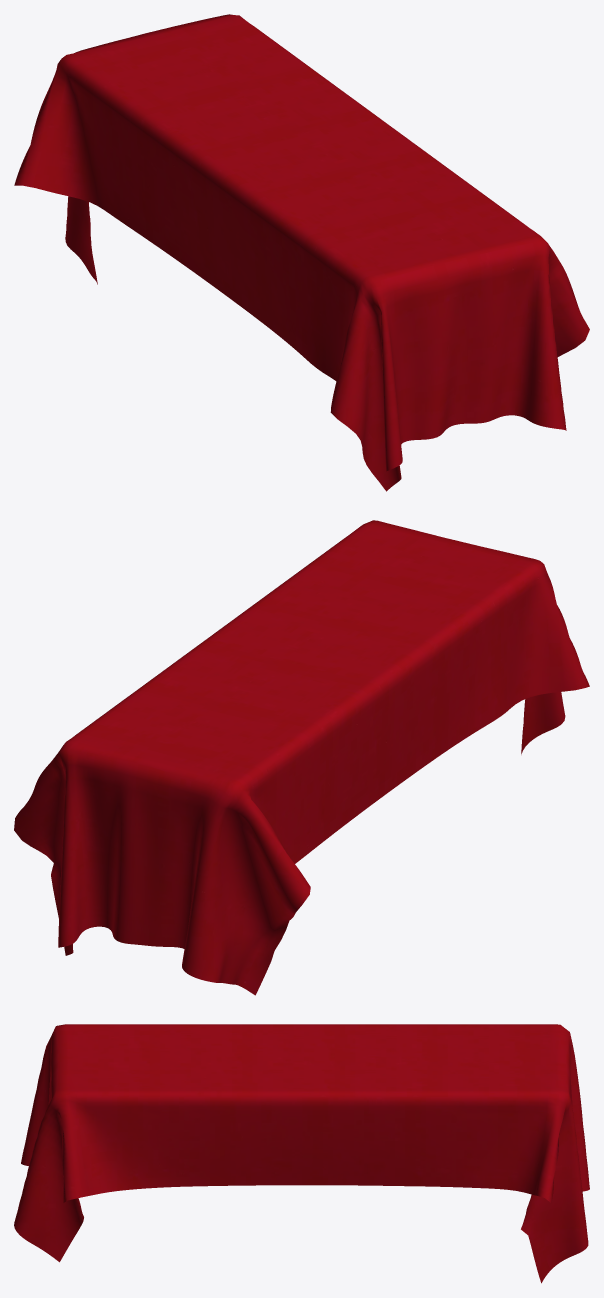
File: Tovaglie.glb
The picture shows the model from 3 angles, top to bottom: view 1: azimuth 30°, elevation 25°; view 2: azimuth 150°, elevation 25°; view 3: azimuth 270°, elevation 25°; orthographic projection. The views are drawn at different scales.
Parts seen in each view (by area): view 1: Tovaglia; view 2: Tovaglia; view 3: Tovaglia.
Part boxes in pixels (x1=…): Tovaglia: x1=14, y1=14, x2=589, y2=491; Tovaglia: x1=14, y1=520, x2=589, y2=995; Tovaglia: x1=14, y1=1024, x2=589, y2=1283.
Size of the model in its own units: 12.63 by 9.43 by 26.09.
1 material, 1 textured.
